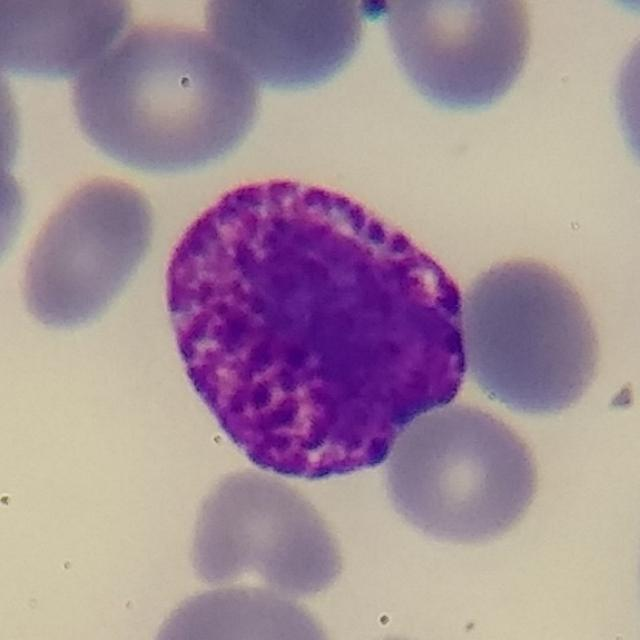baso: (162, 158, 481, 487)
